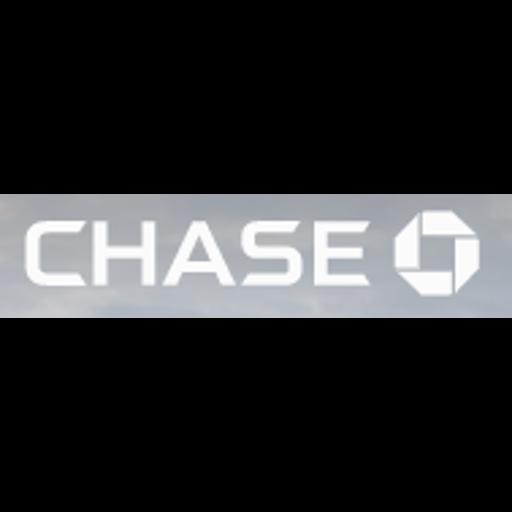Chase Personal Banking: (0, 194, 512, 318)
